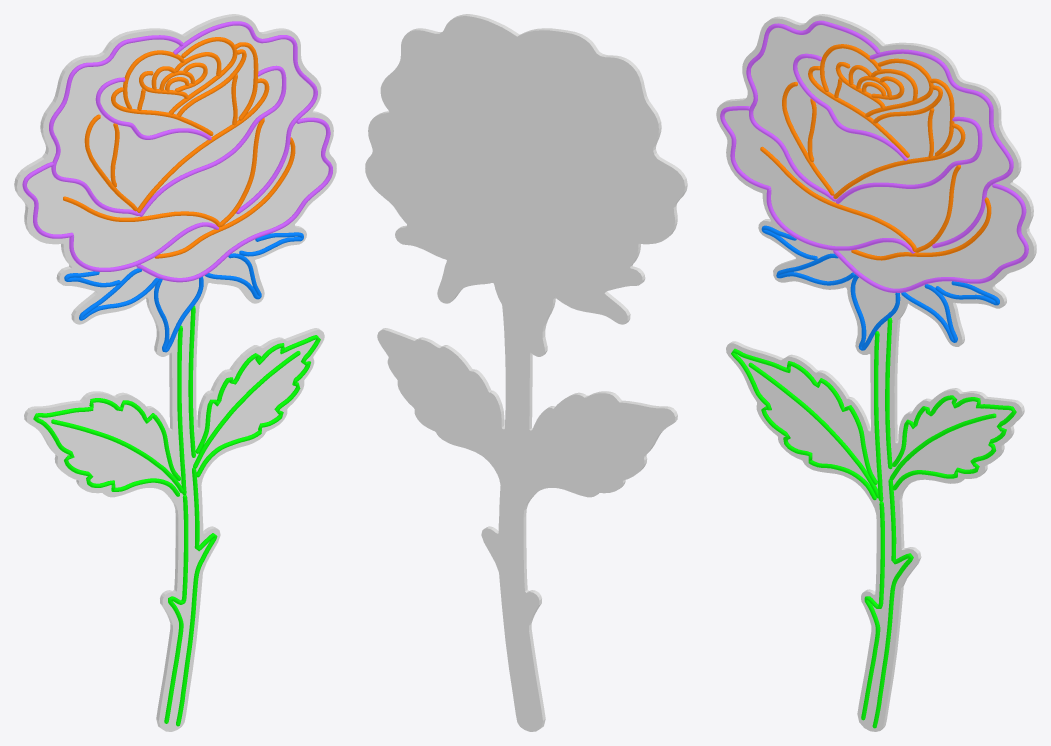
The picture shows the model from 3 angles, left to right: view 1: azimuth 30°, elevation 25°; view 2: azimuth 150°, elevation 25°; view 3: azimuth 330°, elevation 25°; orthographic projection.
Bounding box in the file's own units: 473 × 1000 × 12.
